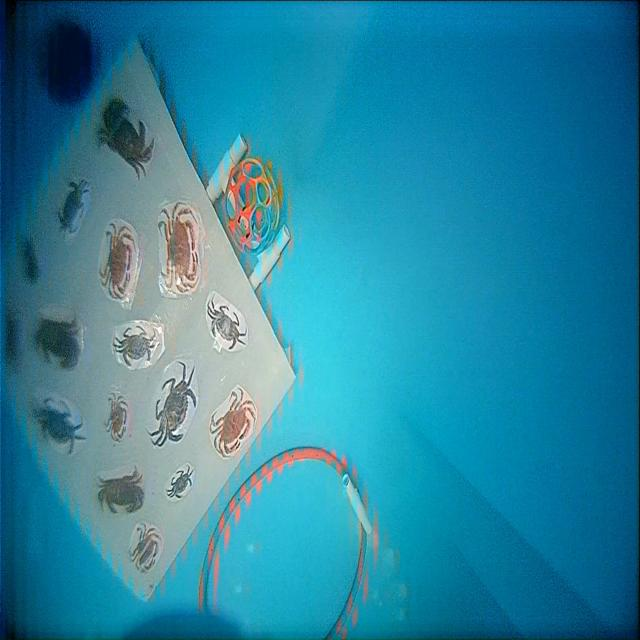GreenCrab: (150, 362, 196, 446), (36, 398, 86, 454), (207, 302, 247, 349), (113, 327, 156, 367), (167, 465, 194, 497)
